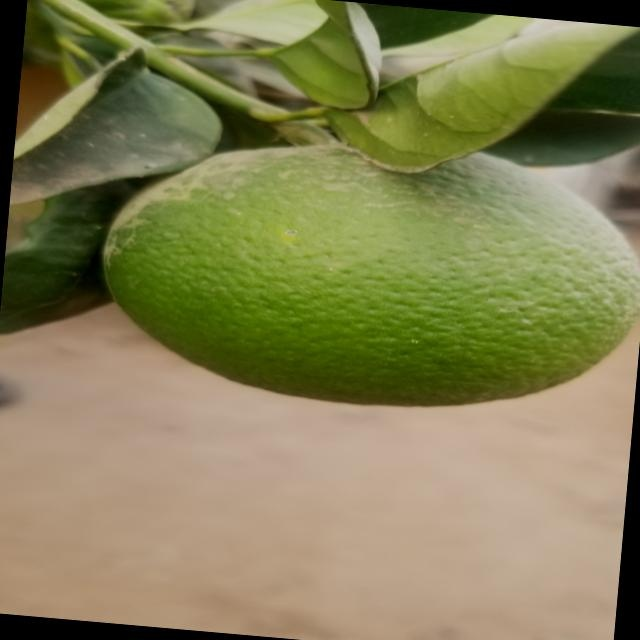agrume: (65, 114, 640, 432)
